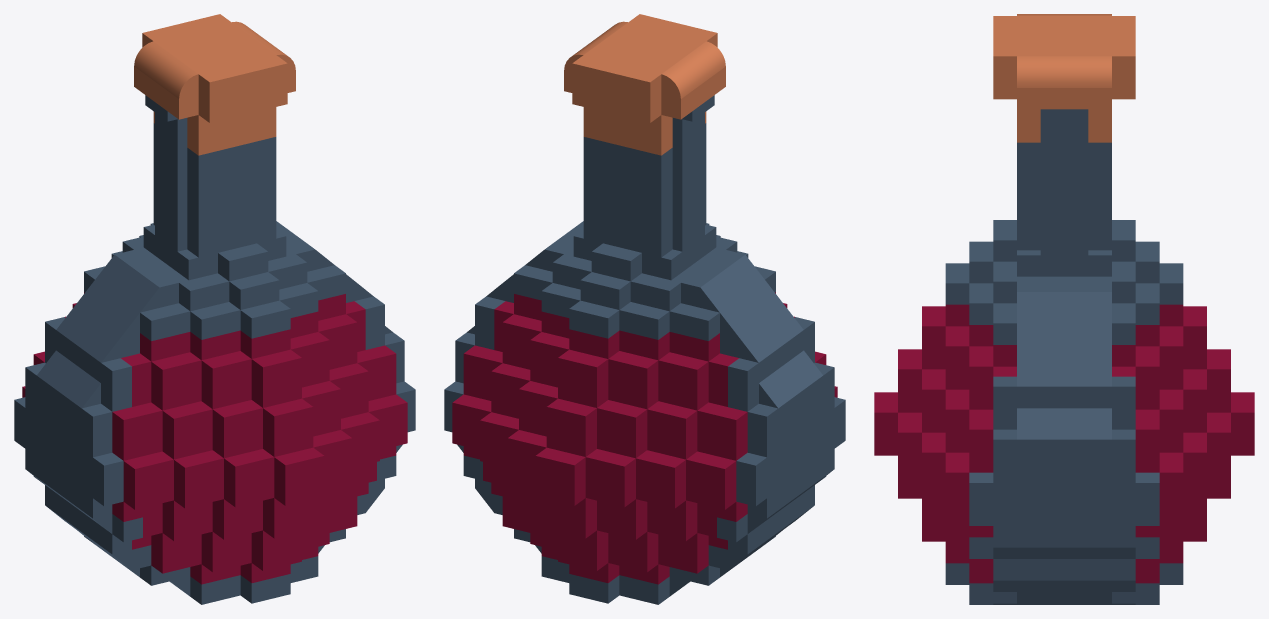
3 renders of one model, left to right at view 1: azimuth 30°, elevation 25°; view 2: azimuth 150°, elevation 25°; view 3: azimuth 270°, elevation 25°, orthographic. The views are drawn at different scales.
Parts seen in each view (by area): view 1: generated(Clone); view 2: generated(Clone); view 3: generated(Clone).
Part boxes in pixels (x1,y1,x2,y2): generated(Clone): [14, 14, 415, 604]; generated(Clone): [444, 14, 845, 604]; generated(Clone): [874, 14, 1254, 604].
Bounding box in the file's own units: 16 × 25 × 16.
